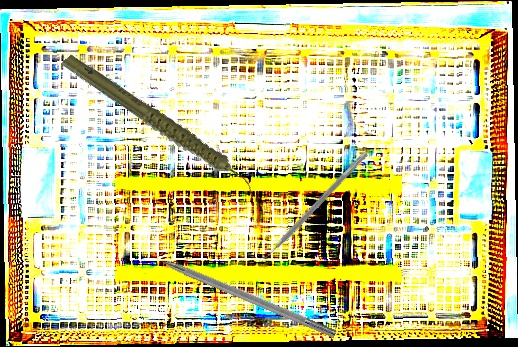Handpiece: (59, 21, 257, 230)
Hook Surgical: (138, 245, 338, 339)
Spatula Surgical: (256, 146, 369, 265)
